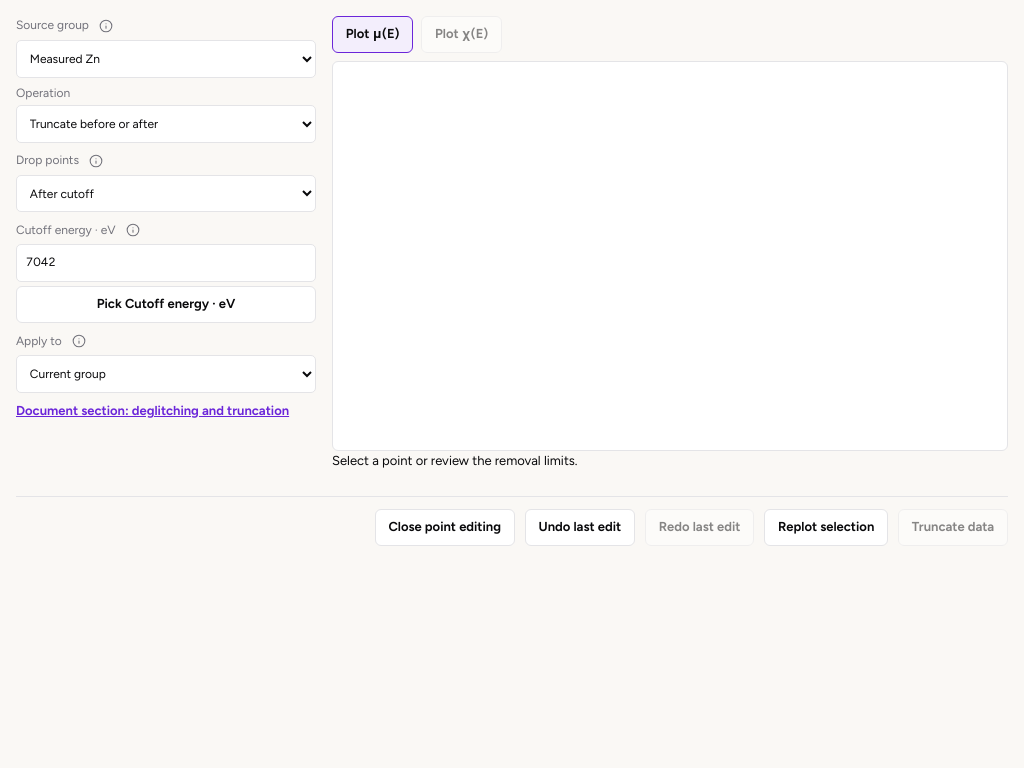
it: submits marked truncation with a floor anchor and preserves controls in its draft
Replace the text in the number field labelled "Cutoff energy · eV" with "7033.6". click: (166, 263)
box: [16,244,316,282]
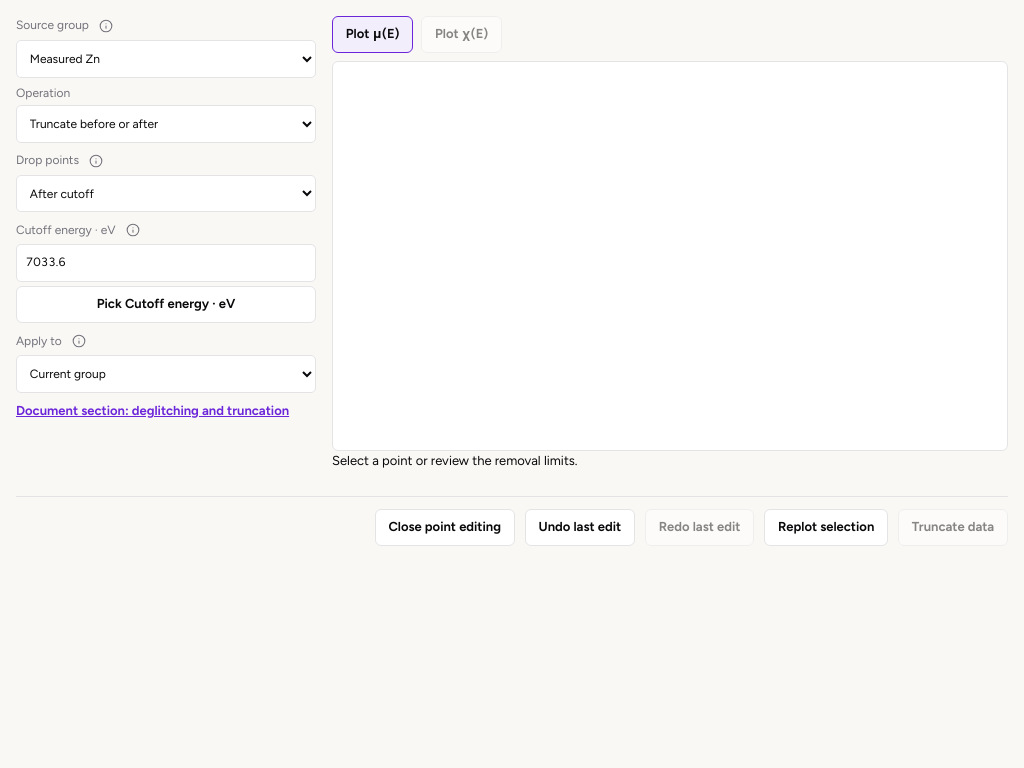
Select "Marked groups" in the dropdown labelled "Apply to". click: (166, 374)
box: [16,355,316,393]
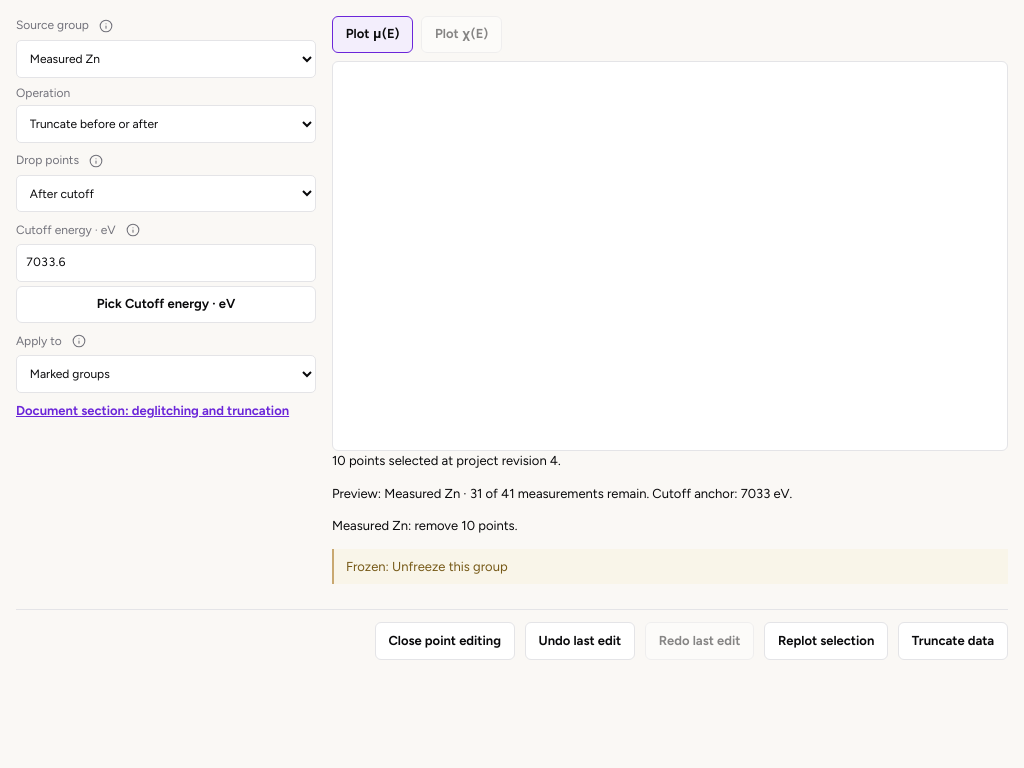
Check: the button "Truncate data" is enabled, box [898,622,1008,660]
Check: the text "Cutoff anchor: 7033 eV" is shown, box [649,486,792,501]
Check: the text "Frozen: Unfreeze this group" is shown, box [332,549,1008,584]
